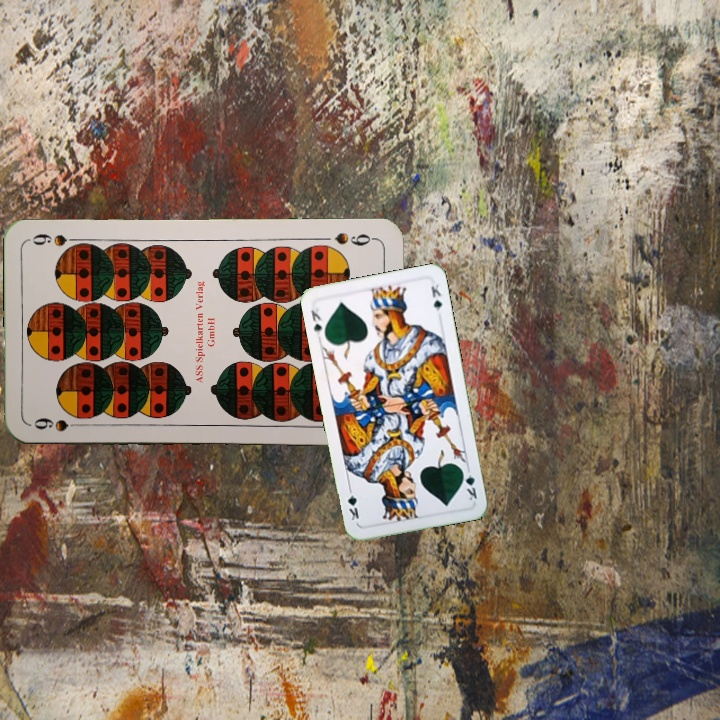GK: (458, 464, 480, 503), (307, 302, 327, 337)
S9: (30, 414, 88, 434), (330, 228, 377, 249)
